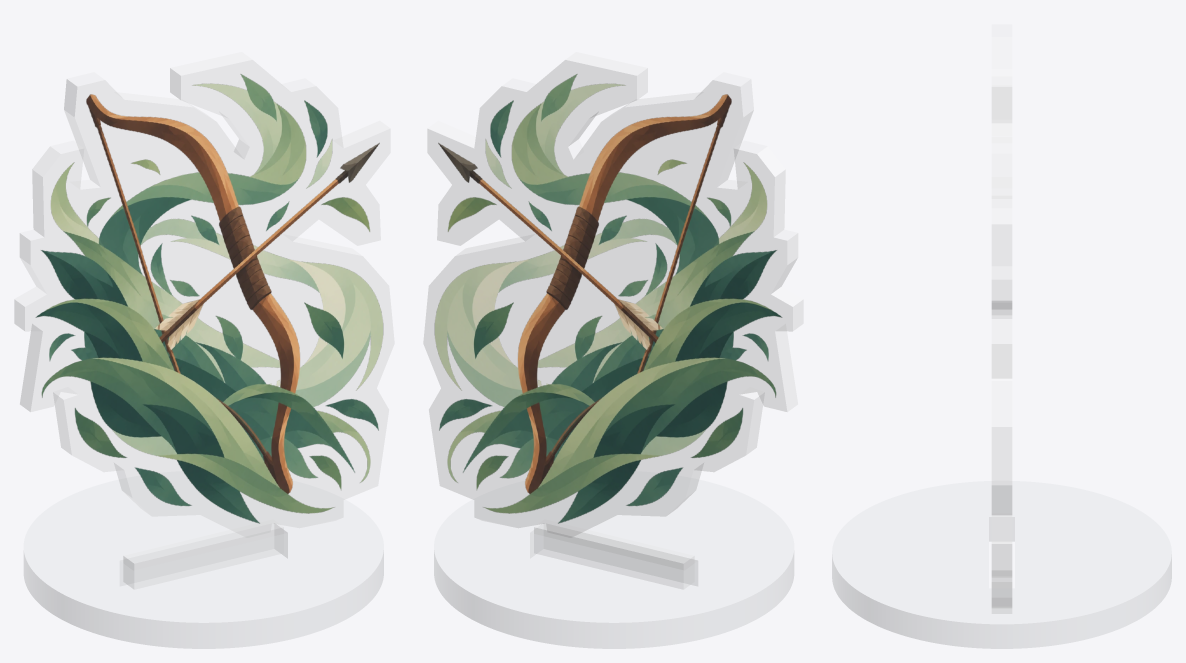
The model's file is mai-phuc.glb.
3 views of the same model, side by side, from view 1: azimuth 30°, elevation 25°; view 2: azimuth 150°, elevation 25°; view 3: azimuth 270°, elevation 25° (orthographic). The views are drawn at different scales.
Parts seen in each view (by area): view 1: ArtworkFront, AcrylicSilhouette, RoundBaseWithSlot, InsertTab; view 2: ArtworkBack, AcrylicSilhouette, RoundBaseWithSlot, InsertTab; view 3: RoundBaseWithSlot, AcrylicSilhouette, InsertTab.
Boxes of the visible parts, box(x1,y1,x2,y2) form: ArtworkFront: box(35, 74, 383, 523); AcrylicSilhouette: box(14, 52, 394, 537); RoundBaseWithSlot: box(24, 471, 383, 648); InsertTab: box(123, 520, 283, 588); ArtworkBack: box(434, 74, 782, 523); AcrylicSilhouette: box(423, 52, 803, 537); RoundBaseWithSlot: box(434, 471, 793, 648); InsertTab: box(534, 520, 694, 588); RoundBaseWithSlot: box(832, 481, 1171, 648); AcrylicSilhouette: box(991, 24, 1012, 613); InsertTab: box(992, 514, 1011, 588).
Size of the model in its own units: 29.62 by 39.97 by 25.
Materials: 5 (2 with a texture image).
